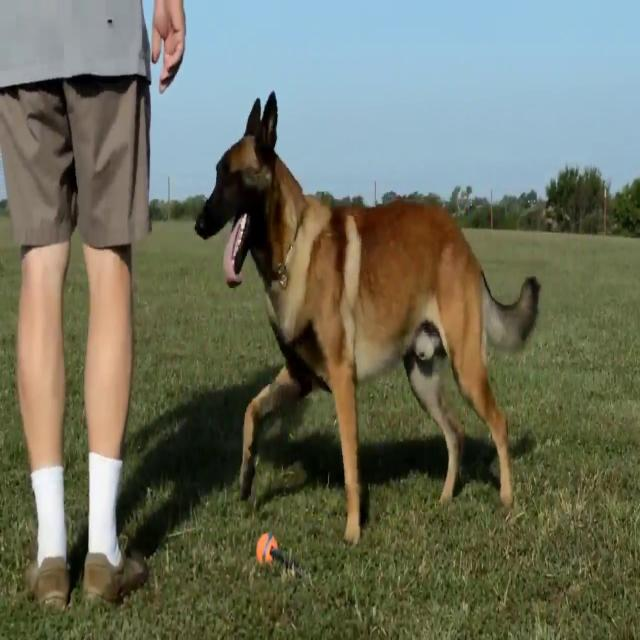Unleashed_Dog: (83, 89, 541, 546)
